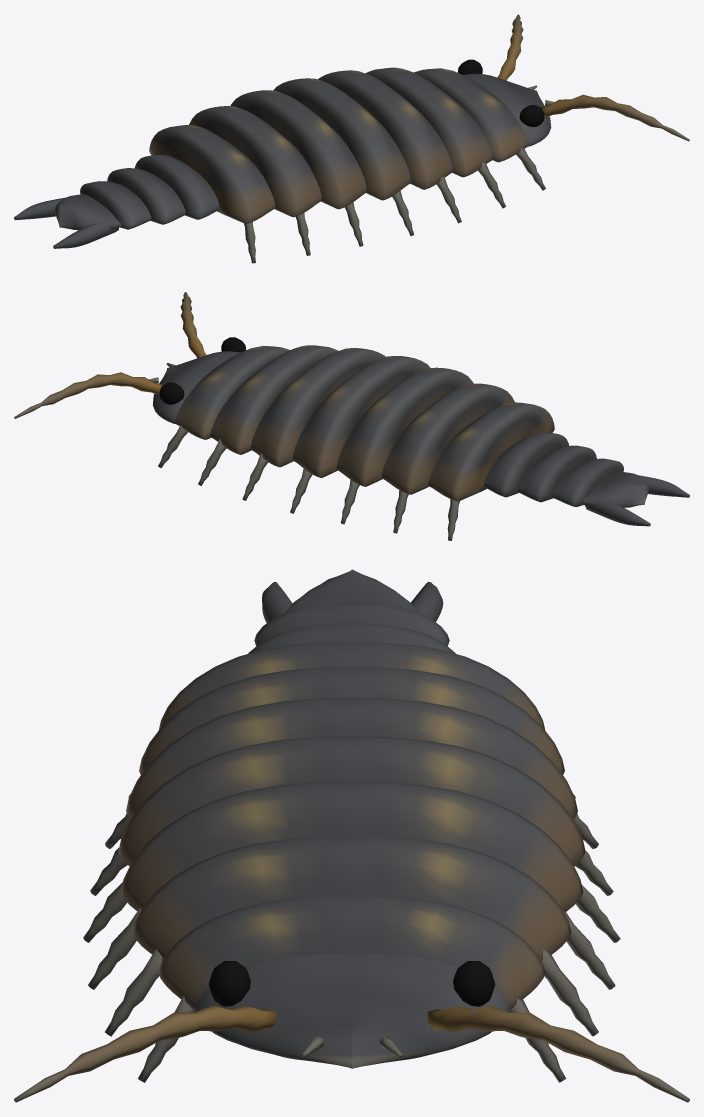
Rendered from woodlouse.glb.
The picture shows the model from 3 angles, top to bottom: view 1: azimuth 30°, elevation 25°; view 2: azimuth 150°, elevation 25°; view 3: azimuth 270°, elevation 25°; orthographic projection. The views are drawn at different scales.
Parts seen in each view (by area): view 1: woodlouse; view 2: woodlouse; view 3: woodlouse.
Part boxes in pixels (x1=…): woodlouse: x1=14, y1=14, x2=689, y2=263; woodlouse: x1=14, y1=292, x2=689, y2=540; woodlouse: x1=14, y1=569, x2=689, y2=1102.
Size of the model in its own units: 1.19 by 0.1923 by 0.622.
